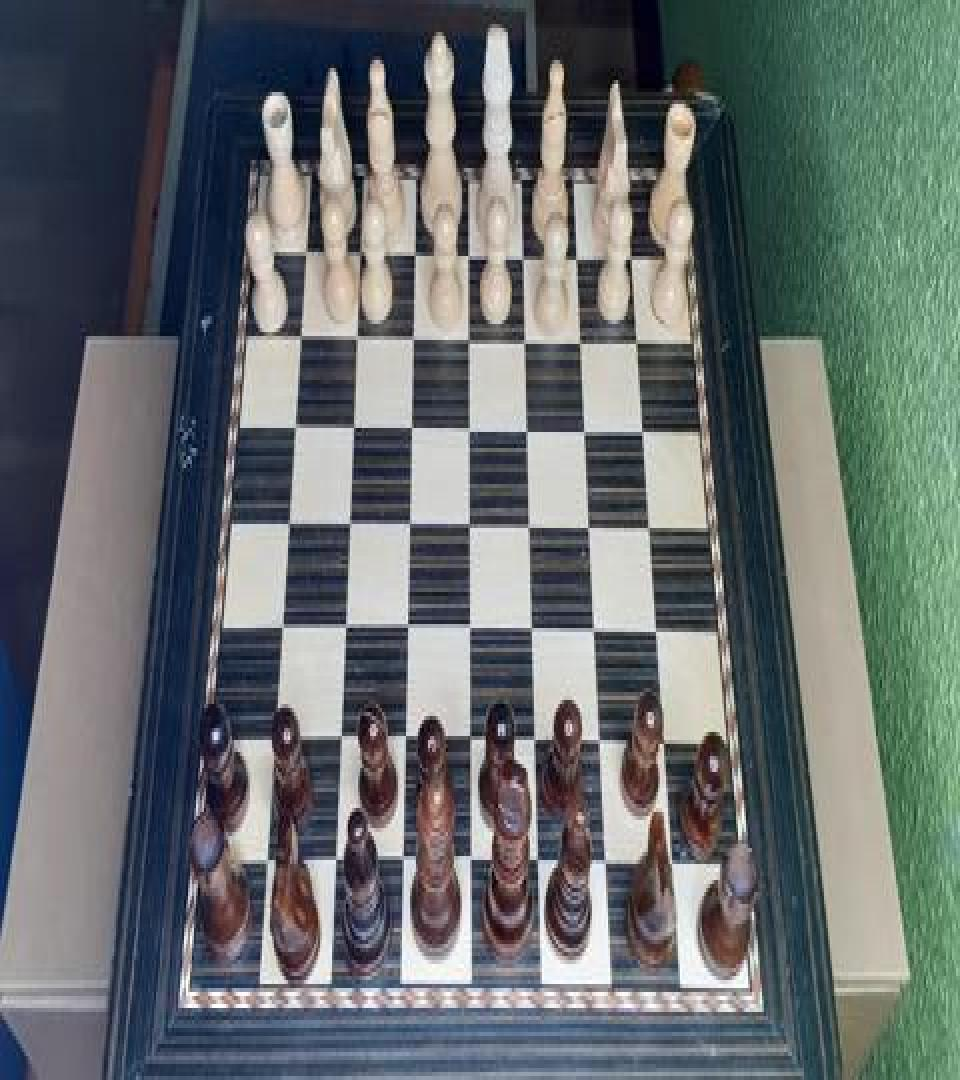xcorner: (295, 230, 313, 266), (289, 314, 307, 350), (283, 406, 301, 442), (277, 502, 295, 538), (270, 608, 288, 644), (262, 722, 280, 758), (254, 846, 272, 882), (350, 232, 368, 268), (346, 316, 364, 352), (342, 406, 360, 442), (338, 504, 356, 540), (333, 608, 351, 644), (329, 722, 347, 758), (323, 846, 341, 882), (404, 232, 422, 268), (403, 316, 421, 352), (401, 408, 419, 444), (399, 504, 417, 540), (397, 610, 415, 646), (395, 724, 413, 760), (392, 846, 410, 882), (459, 234, 477, 270), (459, 318, 477, 354), (460, 408, 478, 444), (460, 506, 478, 542), (460, 610, 478, 646), (460, 724, 478, 760), (461, 846, 479, 882), (514, 234, 532, 270), (516, 320, 534, 356), (518, 410, 536, 446), (521, 506, 539, 542), (523, 612, 541, 648), (526, 724, 544, 760), (529, 848, 547, 884), (568, 236, 586, 272), (572, 320, 590, 356), (576, 410, 594, 446), (581, 508, 599, 544), (586, 612, 604, 648), (592, 726, 610, 762), (597, 848, 615, 884), (622, 236, 640, 272), (628, 322, 646, 358), (635, 412, 653, 448), (642, 508, 660, 544), (649, 612, 667, 648), (657, 726, 675, 762), (666, 848, 684, 884)
